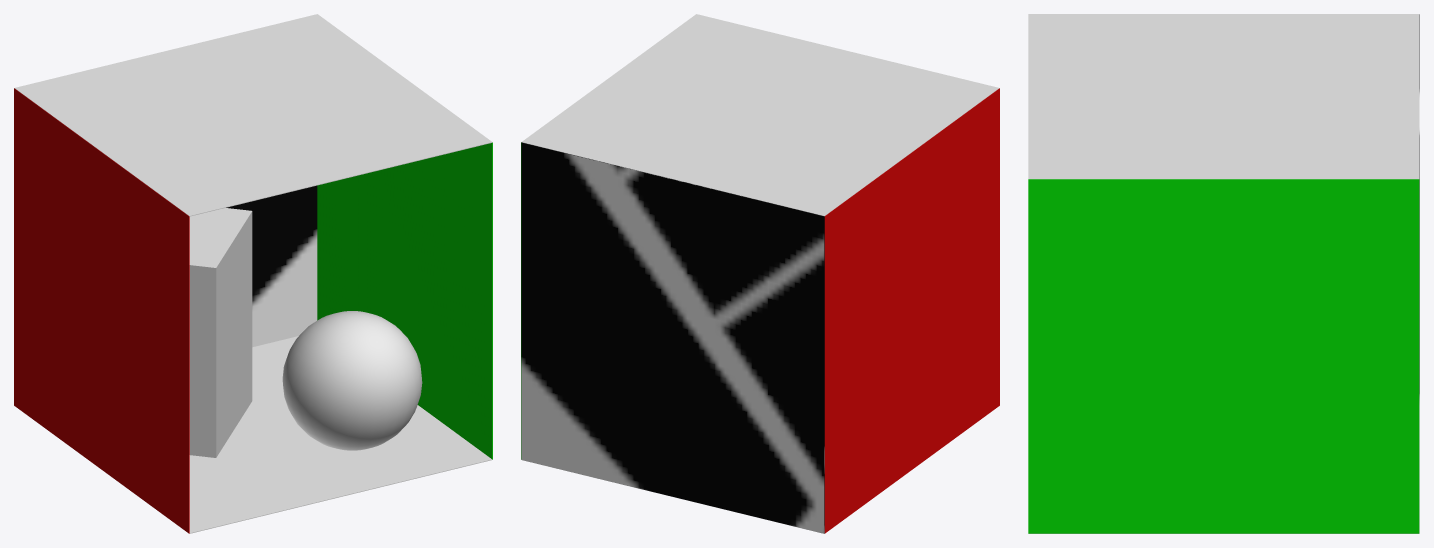
The picture shows the model from 3 angles, left to right: view 1: azimuth 30°, elevation 25°; view 2: azimuth 150°, elevation 25°; view 3: azimuth 270°, elevation 25°; orthographic projection. The views are drawn at different scales.
Parts seen in each view (by area): view 1: 立方体.002, 立方体.001, 立方体.003, 立方体, 球体, 立方体.006, 立方体.004; view 2: 立方体.004, 立方体.002, 立方体.001; view 3: 立方体.003, 立方体.001, 立方体.004.
Part boxes in pixels (x1,y1,x2,y2): 立方体.002: [14, 88, 189, 533]; 立方体.001: [14, 14, 492, 216]; 立方体.003: [317, 142, 492, 459]; 立方体: [189, 336, 492, 533]; 球体: [282, 311, 422, 450]; 立方体.006: [189, 208, 252, 457]; 立方体.004: [226, 185, 317, 347]; 立方体.004: [521, 142, 824, 533]; 立方体.002: [824, 88, 999, 533]; 立方体.001: [521, 14, 999, 216]; 立方体.003: [1028, 179, 1419, 533]; 立方体.001: [1028, 14, 1419, 179]; 立方体.004: [1419, 14, 1419, 533].
Bounding box in the file's own units: 10.02 × 10.02 × 10.01.
Materials: 9 (1 with a texture image).
